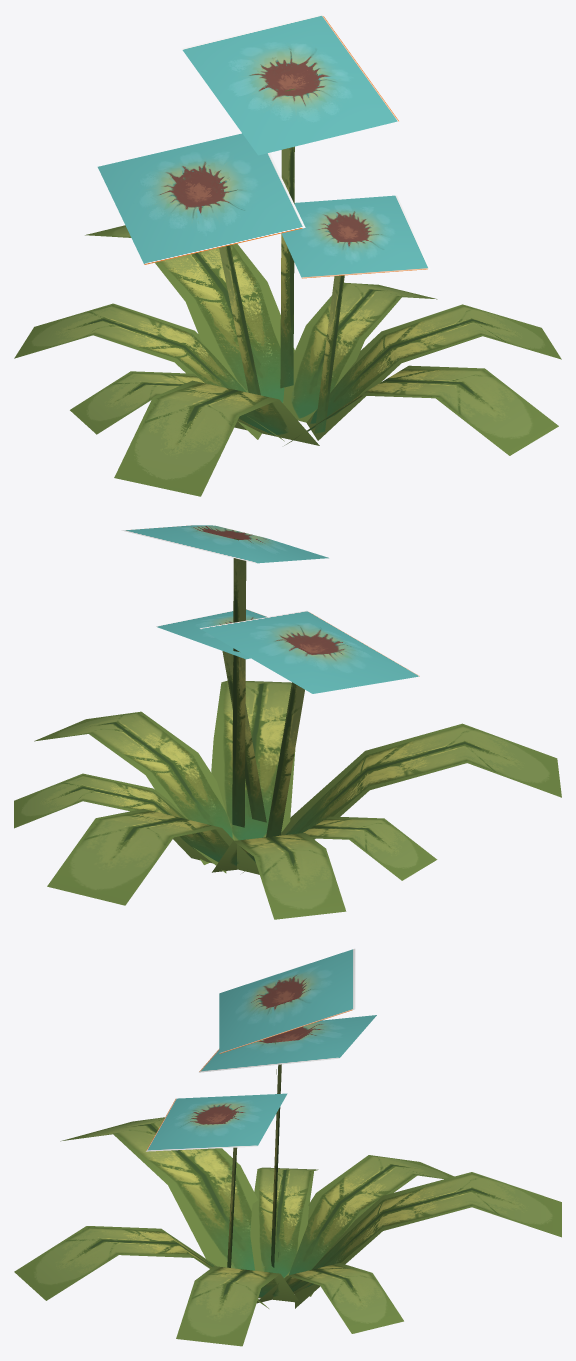
The model's file is V_F_Flower04.FBX.
The picture shows the model from 3 angles, top to bottom: view 1: azimuth 30°, elevation 25°; view 2: azimuth 150°, elevation 25°; view 3: azimuth 270°, elevation 25°; orthographic projection. The views are drawn at different scales.
Visible parts, largest first — view 1: fleur004; view 2: fleur004; view 3: fleur004.
Part boxes in pixels (x1=…): fleur004: x1=14, y1=14, x2=561, y2=496; fleur004: x1=14, y1=525, x2=561, y2=919; fleur004: x1=14, y1=948, x2=561, y2=1346.
Size of the model in its own units: 27.87 by 19.51 by 30.51.
